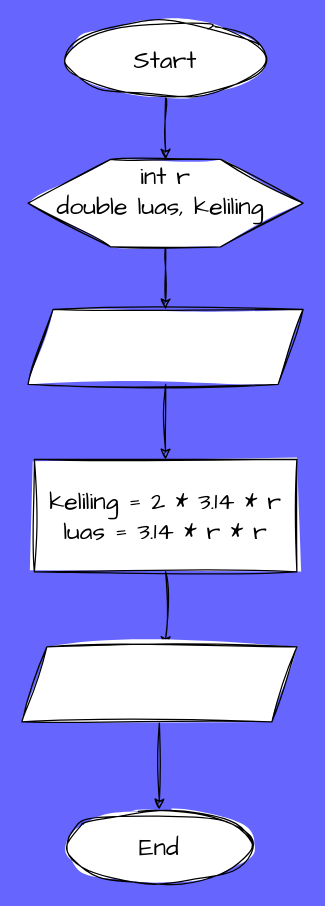
This 325x906 diagram has some shape labels left out. Here are the shapes that lost their labels. From the top down, the box of each, then its label:
(27, 308, 303, 384): input phi, r (jari-jari)
(21, 646, 297, 722): tampilkan luas keliling
